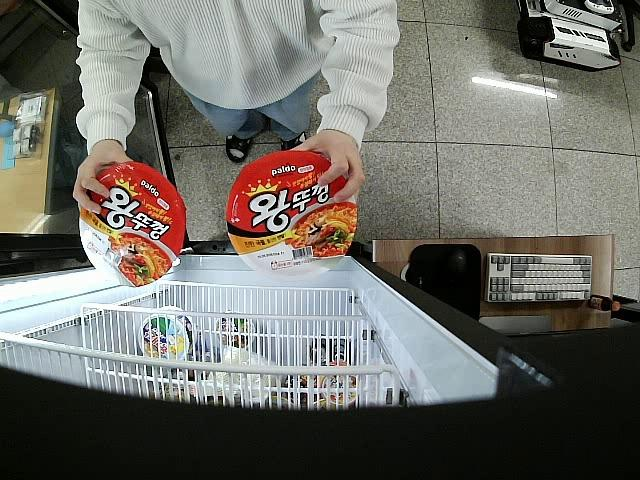00_hand: (288, 127, 365, 204), (72, 151, 132, 214)
10_wangTtukkeong: (228, 149, 356, 279), (80, 162, 185, 291)
